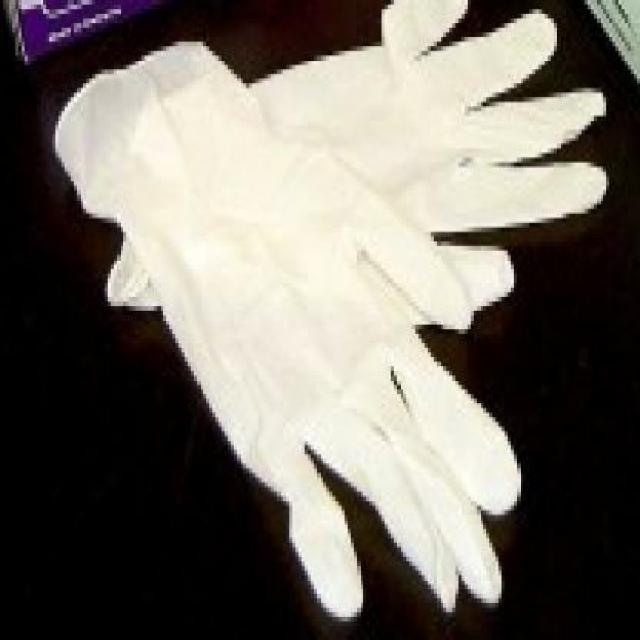glove: (52, 0, 610, 626)
